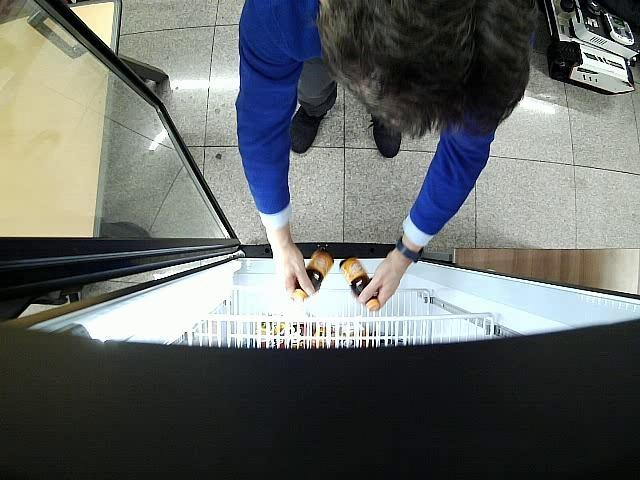17_vita500: (339, 257, 380, 311), (292, 250, 334, 299)
